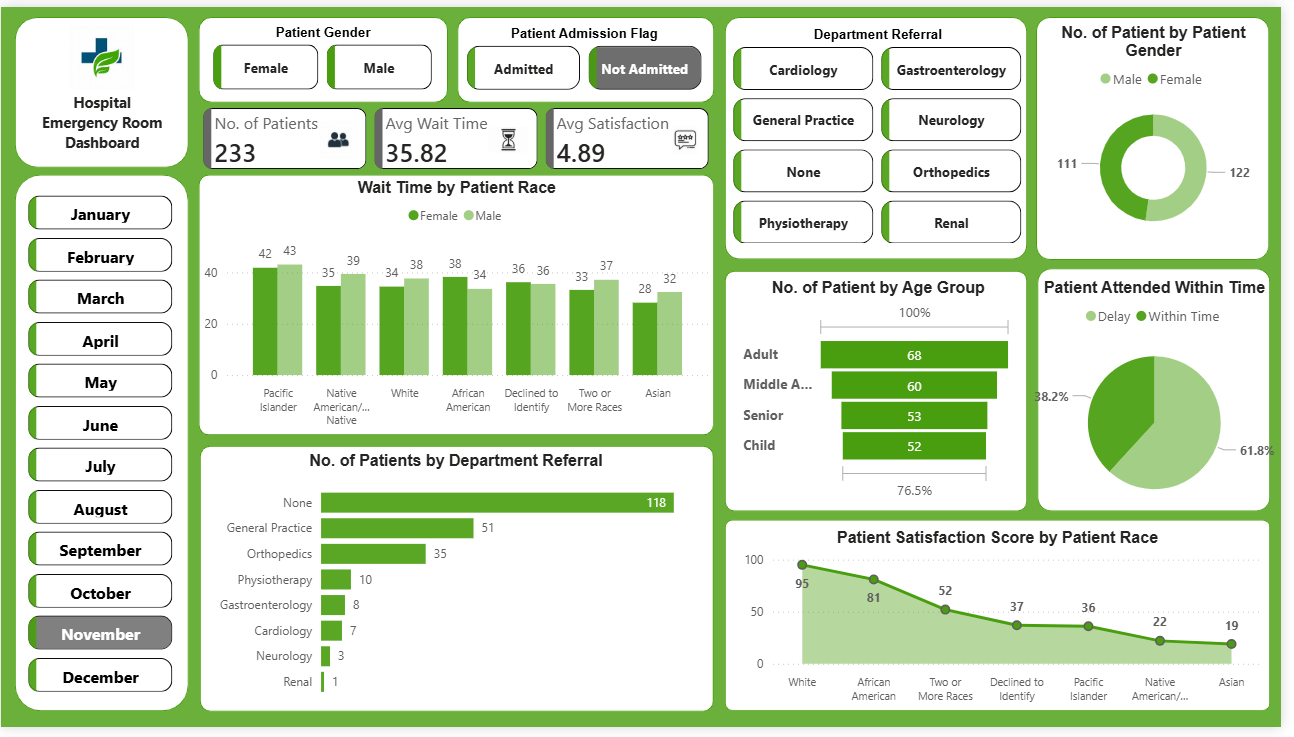

What the dashboard file says about the page in this screenshot:
{"tool":"powerbi","page":{"name":"Page 1","canvas":[1280,720],"ordinal":0},"visuals":[{"type":"shape","box":[197.8,10.1,249.5,85.7],"z":0},{"type":"shape","box":[14.3,10.4,174,150.6],"z":1000},{"type":"shape","box":[197.8,167.6,515.4,260.8],"z":2000},{"type":"shape","box":[1035.6,9.8,233.1,242.9],"z":3000},{"type":"shape","box":[13.9,167.6,173.9,536.8],"z":4000},{"type":"image","box":[32.5,18.2,136.4,63.6],"z":5000},{"type":"textbox","box":[31.9,79.8,137.4,81],"z":6000},{"type":"advancedSlicerVisual","fields":{"Values":["Hospital Emergency Room Data.Patient Gender"]},"box":[207.9,17.6,229.3,70.6],"z":7000},{"type":"shape","box":[197.8,95.8,525.5,75.6],"z":8000},{"type":"shape","box":[723.3,263.4,302.4,240.7],"z":9000},{"type":"advancedSlicerVisual","fields":{"Values":["Calendar_Tabel.Date.Variation.Date Hierarchy.Month"]},"box":[22.7,184,155,510.3],"z":10000},{"type":"donutChart","title":"No. of Patient by Patient Gender","fields":{"Category":["Hospital Emergency Room Data.Patient Gender"],"Y":["Hospital Emergency Room Data.Total Patients"]},"box":[1051.5,16,202.5,224.5],"z":11000},{"type":"funnel","title":"No. of Patient by Age Group","fields":{"Y":["CountNonNull(Hospital Emergency Room Data.Patient Admission Flag)"],"Category":["Hospital Emergency Room Data.Age Group"]},"box":[737.2,270.9,279.7,226.8],"z":12000},{"type":"shape","box":[456.2,10.1,257.1,85.7],"z":13000},{"type":"shape","box":[723.8,10,302.5,242.5],"z":14000},{"type":"advancedSlicerVisual","fields":{"Values":["Hospital Emergency Room Data.Department Referral"]},"box":[726.4,23.3,298.2,222.1],"z":15000},{"type":"advancedSlicerVisual","fields":{"Values":["Hospital Emergency Room Data.Patient Admission Flag"]},"box":[461.2,18.9,244.5,69.3],"z":16000},{"type":"cardVisual","fields":{"Data":["Hospital Emergency Room Data.Total Patients","Hospital Emergency Room Data.Avg Wait Time","Hospital Emergency Room Data.Avg Satisfaction"]},"box":[197.8,95.8,515.4,71.8],"z":17000},{"type":"shape","box":[199.1,438.5,514.1,265.9],"z":18000},{"type":"shape","box":[1035.8,260.8,233.1,243.2],"z":19000},{"type":"shape","box":[723.3,512.9,545.6,191.5],"z":20000},{"type":"areaChart","title":"Patient Satisfaction Score by Patient Race","fields":{"Category":["Hospital Emergency Room Data.Patient Race"],"Y":["Sum(Hospital Emergency Room Data.Patient Satisfaction Score)"]},"box":[723.3,521.7,545.6,182.7],"z":21000},{"type":"pieChart","title":" Patient Attended Within  Time","fields":{"Category":["Hospital Emergency Room Data.Patient Attend Time"],"Y":["Hospital Emergency Room Data.Total Patients"]},"box":[1025.7,270.9,254.5,241.9],"z":22000},{"type":"clusteredBarChart","title":"No. of Patients by Department Referral","fields":{"Category":["Hospital Emergency Room Data.Department Referral"],"Y":["Hospital Emergency Room Data.Total Patients"]},"box":[206.7,444.8,497.7,255.8],"z":23000},{"type":"clusteredColumnChart","title":"Wait Time by Patient Race ","fields":{"Y":["Hospital Emergency Room Data.Avg Wait Time"],"Series":["Hospital Emergency Room Data.Patient Gender"],"Category":["Hospital Emergency Room Data.Patient Race"]},"box":[199.1,171.4,514.1,257.1],"z":24000}]}

Visuals, with their boxes in screenshot pixels (x1, y1, x2, y2), scaled from the page's 1280x720 canvas onto the 1294x737 screenshot:
shape: [200, 10, 452, 98]
shape: [14, 11, 190, 165]
shape: [200, 172, 721, 439]
shape: [1047, 10, 1283, 259]
shape: [14, 172, 190, 721]
image: [33, 19, 171, 84]
textbox: [32, 82, 171, 165]
advancedSlicerVisual - Hospital Emergency Room Data.Patient Gender: [210, 18, 442, 90]
shape: [200, 98, 731, 175]
shape: [731, 270, 1037, 516]
advancedSlicerVisual - Calendar_Tabel.Date.Variation.Date Hierarchy.Month: [23, 188, 180, 711]
"No. of Patient by Patient Gender" donutChart: [1063, 16, 1268, 246]
"No. of Patient by Age Group" funnel: [745, 277, 1028, 509]
shape: [461, 10, 721, 98]
shape: [732, 10, 1038, 258]
advancedSlicerVisual - Hospital Emergency Room Data.Department Referral: [734, 24, 1036, 251]
advancedSlicerVisual - Hospital Emergency Room Data.Patient Admission Flag: [466, 19, 713, 90]
cardVisual - Hospital Emergency Room Data.Total Patients x Hospital Emergency Room Data.Avg Wait Time: [200, 98, 721, 172]
shape: [201, 449, 721, 721]
shape: [1047, 267, 1283, 516]
shape: [731, 525, 1283, 721]
"Patient Satisfaction Score by Patient Race" areaChart: [731, 534, 1283, 721]
" Patient Attended Within  Time" pieChart: [1037, 277, 1293, 525]
"No. of Patients by Department Referral" clusteredBarChart: [209, 455, 712, 717]
"Wait Time by Patient Race " clusteredColumnChart: [201, 175, 721, 439]
